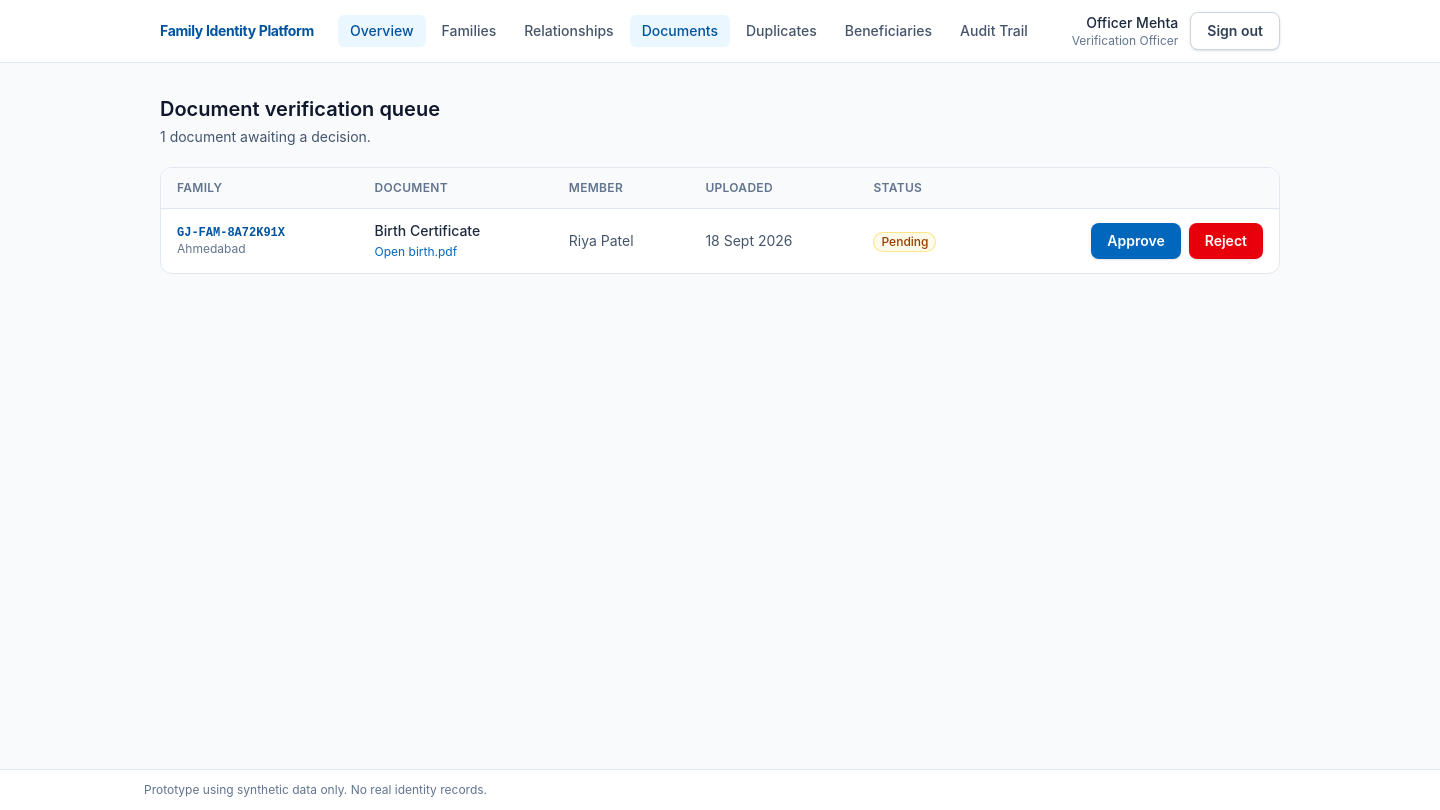
it: DocumentQueuePage › requires a reason before rejecting
The image size is (1440, 810).
Expected: the text "GJ-FAM-8A72K91X" is shown, [177,226,285,240]
Click the button "Reject": (1226, 241) [1189,223,1263,259]
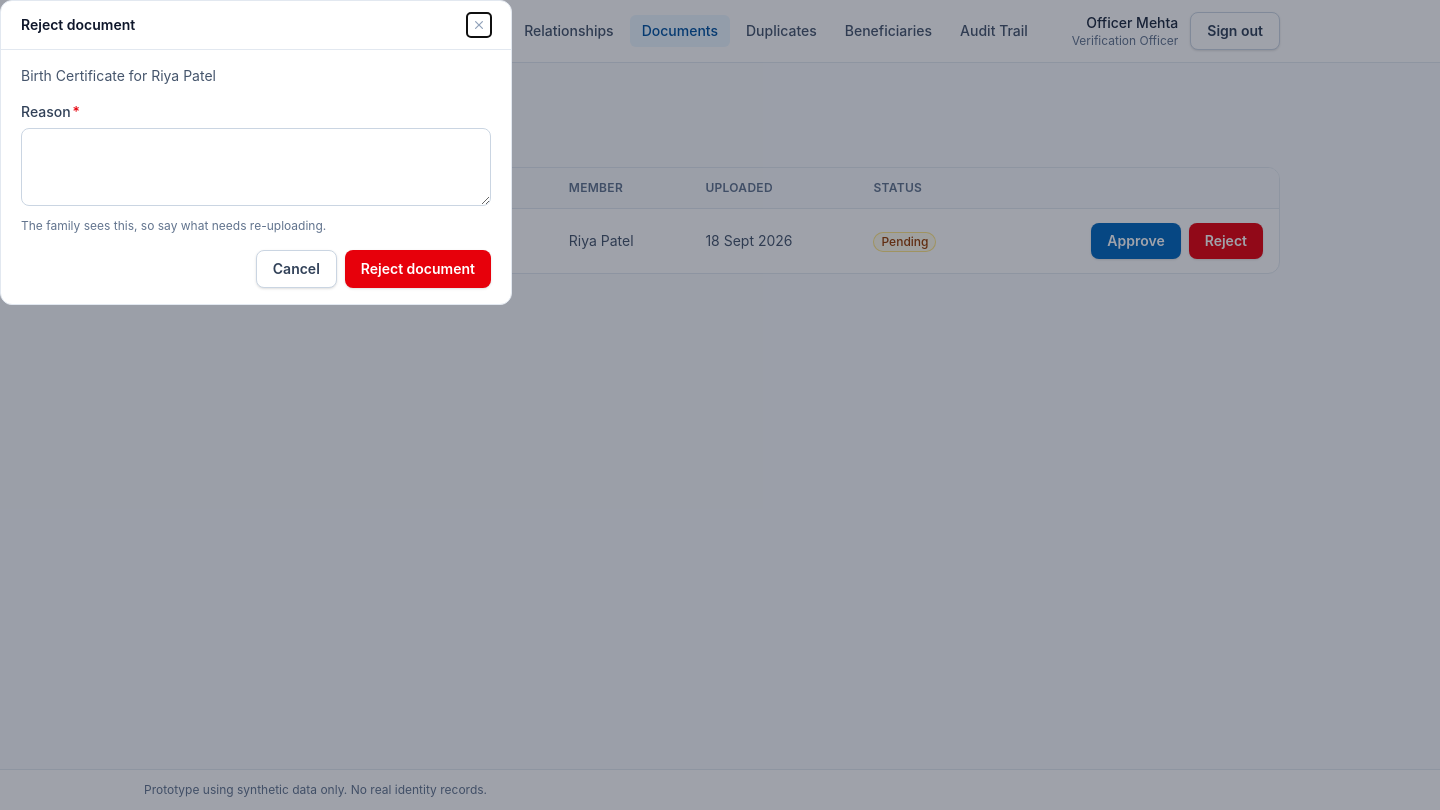
Click the button "Reject document": (418, 269) [345,250,491,288]
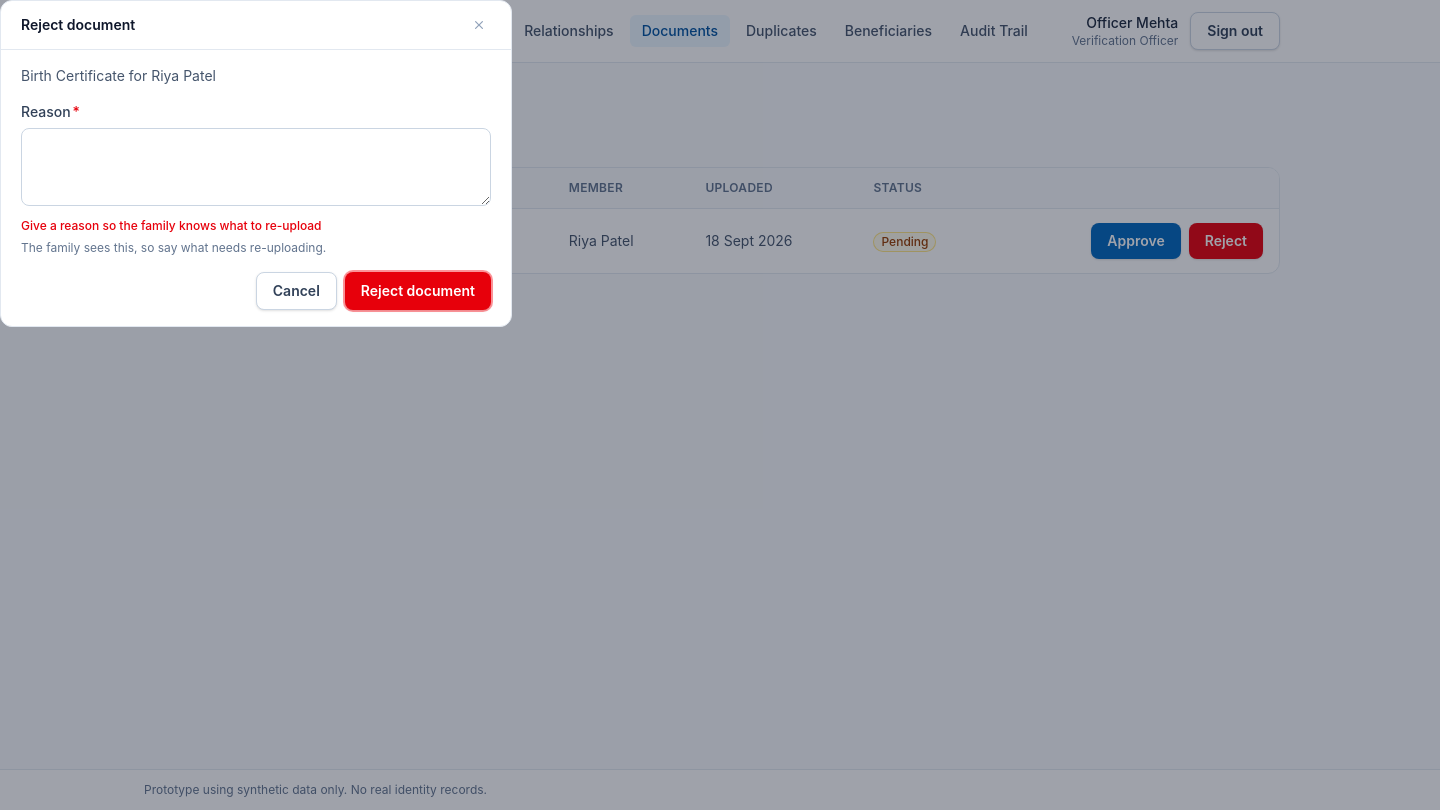
Now the text "Give a reason so the family knows what to re-upload" is shown, box [21,218,322,233]
